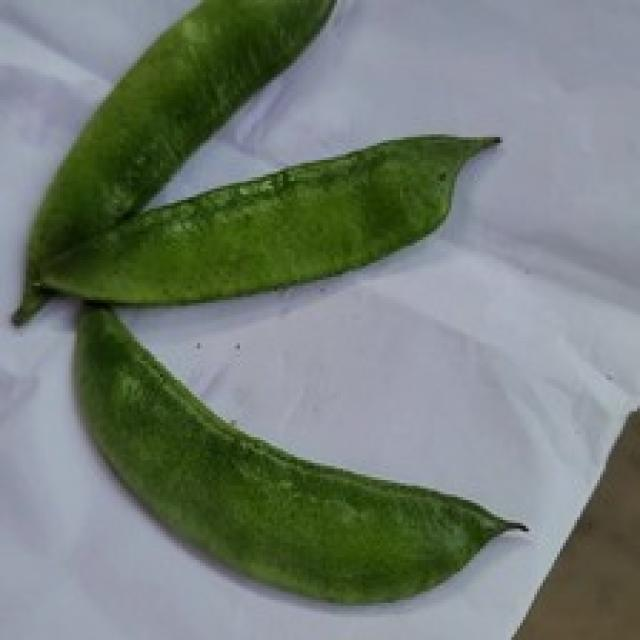Bean: (69, 300, 528, 606), (9, 0, 340, 326), (37, 128, 500, 308)
